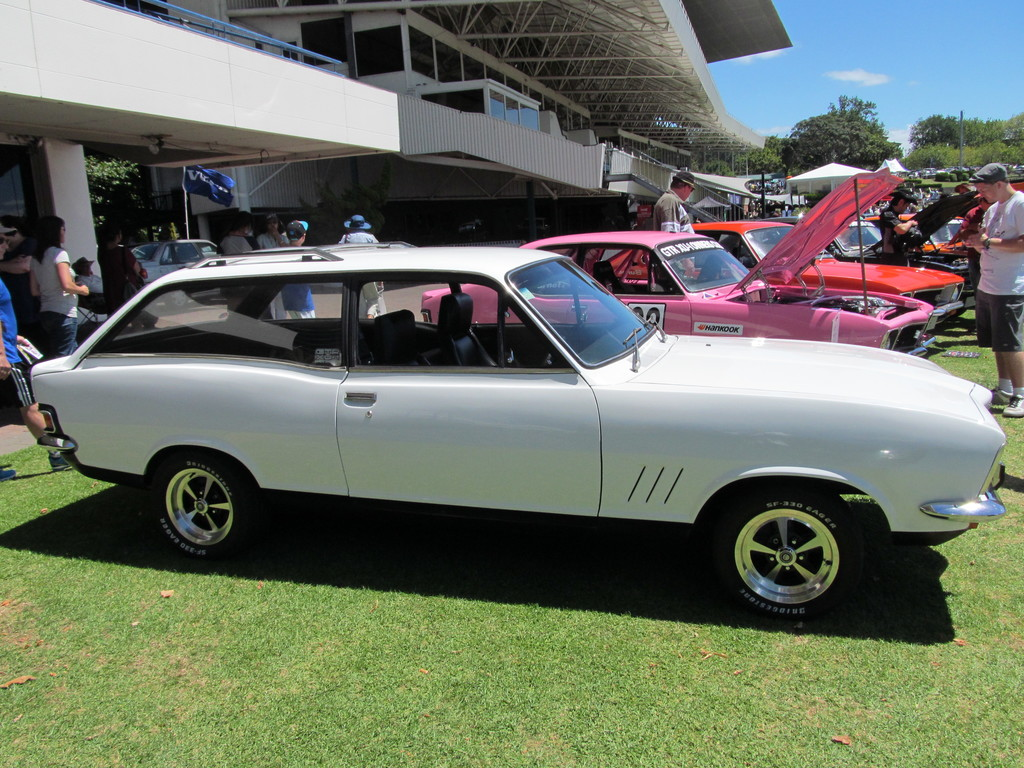mobil: (28, 243, 1004, 672)
